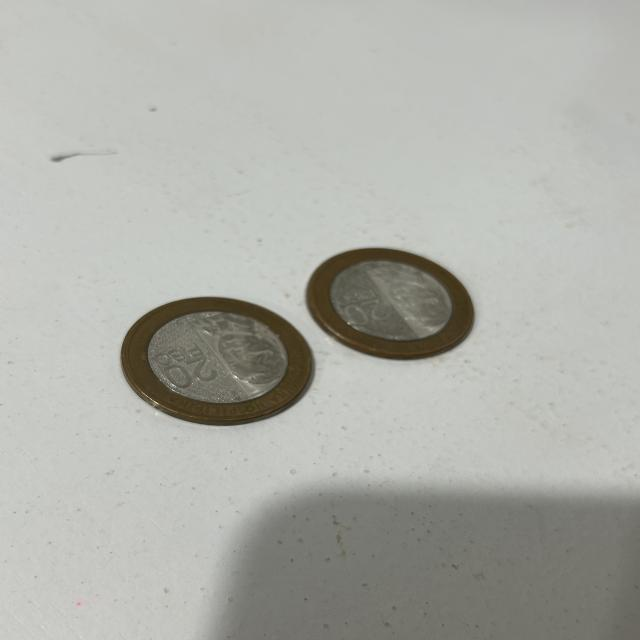20_New_Front: (150, 344, 228, 398), (331, 288, 337, 290)
